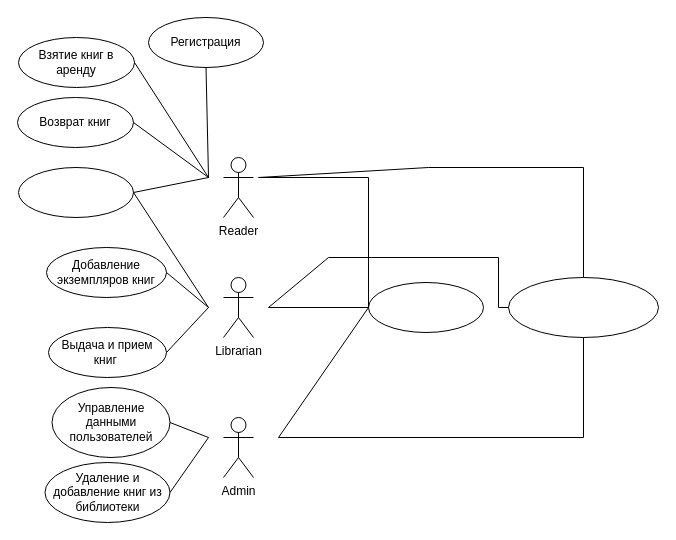
The diagram is 676 pixels wide and 540 high, and some of its shapes have lost their labels. Each missing label, with the box of its shape:
Авторизация: (368, 282, 484, 332)
Поиск книги по критериям: (18, 166, 134, 218)
Просмотр списка и наличия книг в библиотеке: (508, 276, 658, 338)
